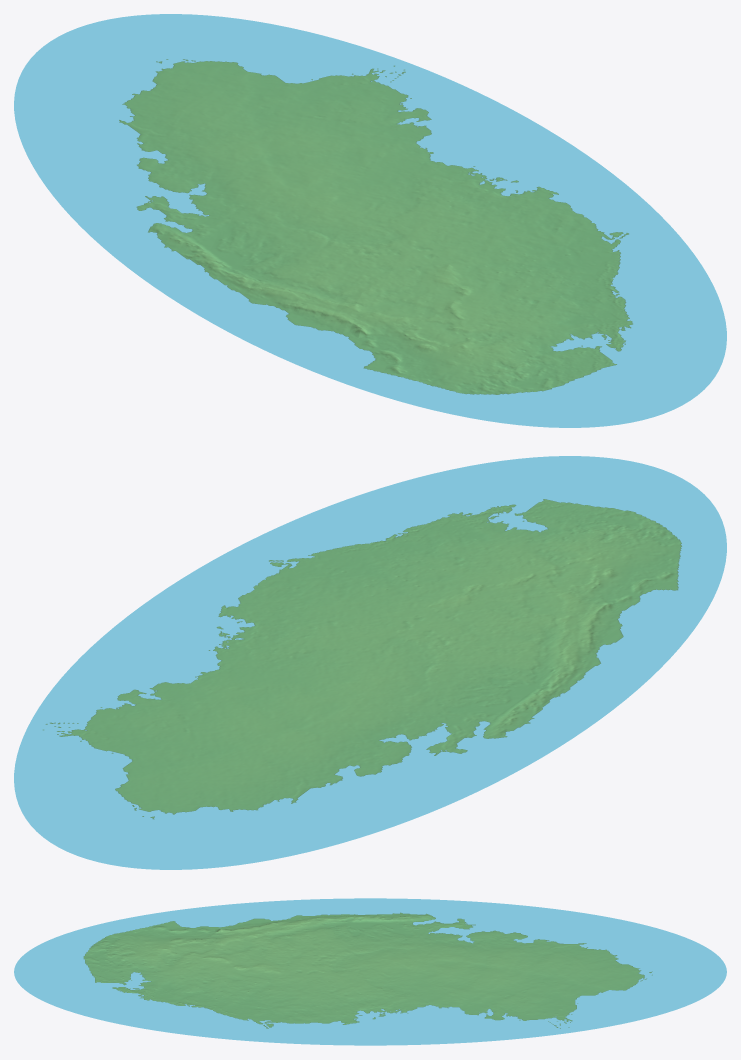
File: QAT-terrain.glb
The picture shows the model from 3 angles, top to bottom: view 1: azimuth 30°, elevation 25°; view 2: azimuth 150°, elevation 25°; view 3: azimuth 270°, elevation 25°; orthographic projection. The views are drawn at different scales.
Visible parts, largest first — view 1: Relevo com hidrografia; view 2: Relevo com hidrografia; view 3: Relevo com hidrografia.
Boxes of the visible parts, <box> form: Relevo com hidrografia: <box>14,14,726,427</box>; Relevo com hidrografia: <box>14,456,726,869</box>; Relevo com hidrografia: <box>14,898,726,1045</box>.
Size of the model in its own units: 0.9825 by 0.0105 by 2.01.
Materials: 2 (1 with a texture image).
